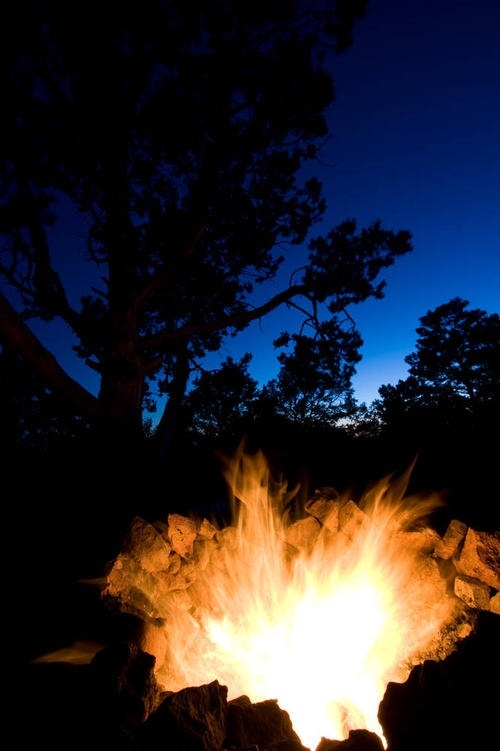fire: (116, 437, 469, 744)
